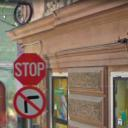NoVirarDireita: (12, 87, 49, 118)
